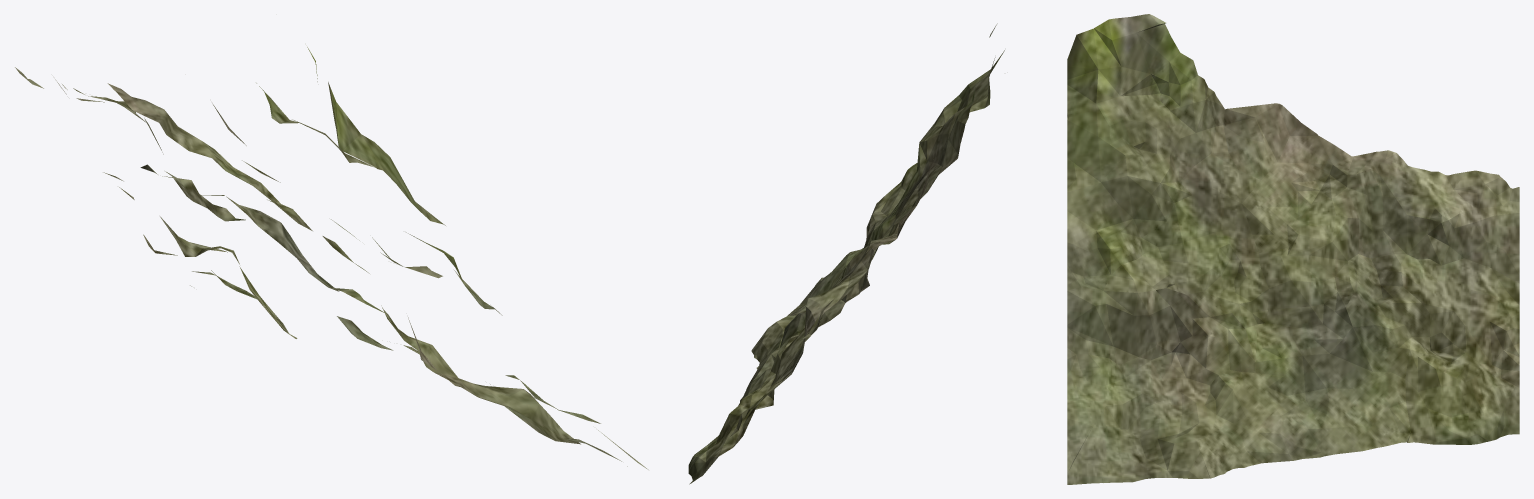
The picture shows the model from 3 angles, left to right: view 1: azimuth 30°, elevation 25°; view 2: azimuth 150°, elevation 25°; view 3: azimuth 270°, elevation 25°; orthographic projection. The views are drawn at different scales.
Bounding box in the file's own units: 1.73 × 2.58 × 2.95.
Materials: 2 (2 with a texture image).
